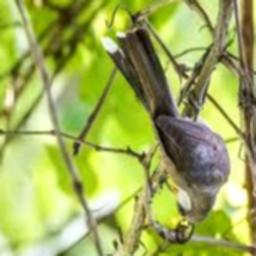Cuckoo: (99, 25, 231, 224)
